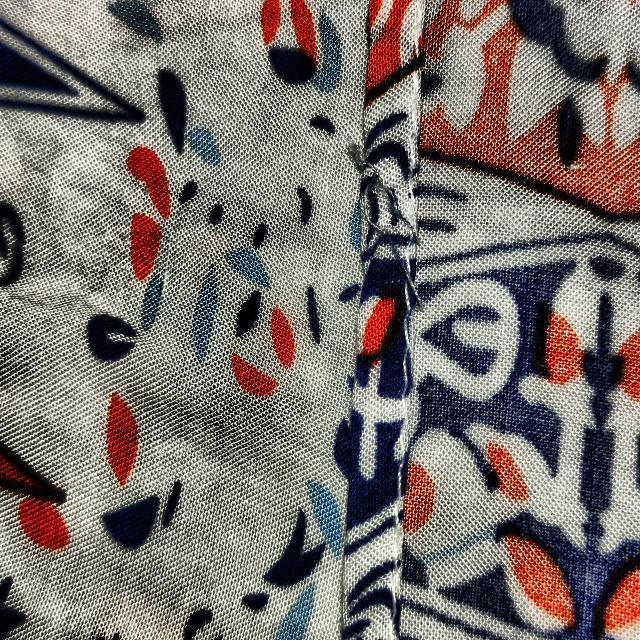gray stitch: (335, 114, 453, 358)
